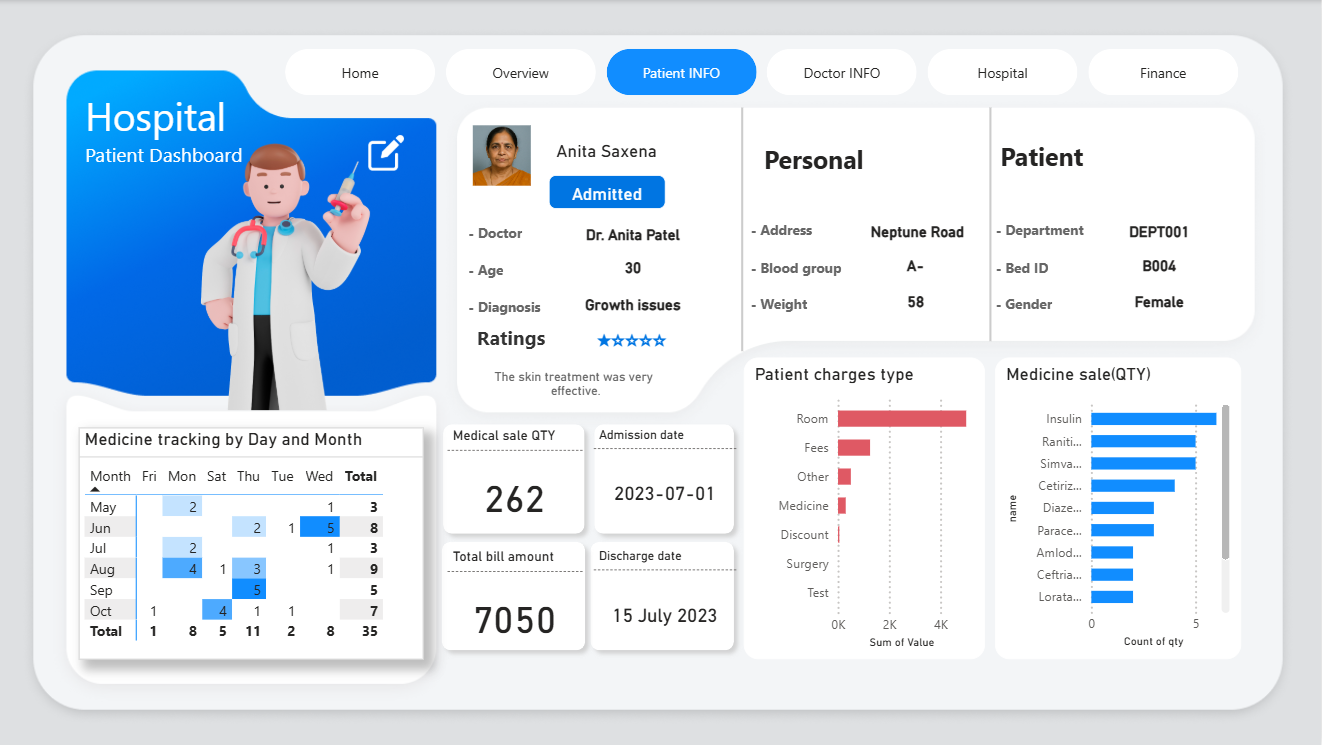

Layout of this report page (visuals, bound fields, positions):
{"tool":"powerbi","page":{"name":"Patient INFO","canvas":[1280,720],"ordinal":2},"visuals":[{"type":"image","box":[134.1,120.7,280.4,280.4],"z":0},{"type":"shape","box":[455.7,211.4,114.3,25.7],"z":0,"group":"g1"},{"type":"image","box":[354.3,125.7,45.7,44.3],"z":1000},{"type":"shape","box":[455.6,247.4,114.4,25.6],"z":1000,"group":"g1"},{"type":"textbox","box":[81.7,81.7,192.6,109.7],"z":2000},{"type":"shape","box":[455.7,282.8,114.3,25.7],"z":2000,"group":"g1"},{"type":"card","title":"Admission date","fields":{"Values":["Min(patient_info.doctor_name)"]},"box":[543.1,211.2,143.8,32.5],"z":3000,"group":"g1"},{"type":"shape","box":[566.4,513.6,156.4,122.7],"z":3000},{"type":"shape","box":[729.3,208.5,114.3,25.7],"z":4000},{"type":"card","title":"Admission date","fields":{"Values":["Min(patient_info.patient_age)"]},"box":[543.1,243.7,143.8,32.5],"z":4000,"group":"g1"},{"type":"shape","box":[965.1,208.5,114.3,25.7],"z":5000},{"type":"card","title":"Admission date","fields":{"Values":["Min(appointment.diagnosis)"]},"box":[543.1,279.3,143.8,32.5],"z":5000,"group":"g1"},{"type":"shape","box":[421.8,513.6,156.4,122.7],"z":6000},{"type":"shape","box":[729.2,244.6,114.4,25.6],"z":7000},{"type":"shape","box":[965,244.6,114.4,25.6],"z":8000},{"type":"shape","box":[423.6,400.9,154.5,123.6],"z":9000},{"type":"shape","box":[729.3,279.9,114.3,25.7],"z":10000},{"type":"shape","box":[965.1,279.9,114.3,25.7],"z":11000},{"type":"shape","box":[570,400.9,152.7,123.6],"z":12000},{"type":"card","title":"Admission date","fields":{"Values":["Min(patient_info.patient_address)"]},"box":[816.7,208.3,143.8,32.5],"z":13000},{"type":"card","title":"Admission date","fields":{"Values":["Min(patient_info.department_department_id)"]},"box":[1052.5,208.3,143.8,32.5],"z":14000},{"type":"card","title":"Admission date","fields":{"Values":["Min(patient_info.patient_blood_group)"]},"box":[816.7,240.8,143.8,32.5],"z":15000},{"type":"card","title":"Admission date","fields":{"Values":["Min(patient_info.beds_bed_id)"]},"box":[1052.5,240.8,143.8,32.5],"z":16000},{"type":"card","title":"Discharge date","fields":{"Values":["Min(patient_info.patient_discharge_date)"]},"box":[578.2,530,137.3,106.4],"z":17000},{"type":"card","title":"Admission date","fields":{"Values":["Min(patient_info.patient_weight)"]},"box":[816.7,276.5,143.8,32.5],"z":18000},{"type":"card","title":"Admission date","fields":{"Values":["Min(patient_info.patient_gender)"]},"box":[1052.5,276.5,143.8,32.5],"z":19000},{"type":"shape","box":[711.1,103.3,21.1,235.6],"z":20000},{"type":"card","title":"Admission date","fields":{"Values":["Min(patient_info.patient_admission_date)"]},"box":[578.2,412.7,137.3,106.4],"z":21000},{"type":"pivotTable","title":"Medicine tracking by Day and Month","fields":{"Values":["CountNonNull(medicine_patient.qty)"],"Columns":["Calendar.Day"],"Rows":["Calendar.Month"]},"box":[81.2,412.5,332.5,223.8],"z":22000},{"type":"clusteredBarChart","title":"Medicine sale(QTY)","fields":{"Y":["CountNonNull(medicine_patient.qty)"],"Category":["medical_stock_info.name"]},"box":[965,345,237.5,291.2],"z":23000},{"type":"clusteredBarChart","title":"Patient charges type","fields":{"Category":["Bills.Charge_Type"],"Y":["Sum(Bills.Value)"]},"box":[722.5,345,232.5,291.2],"z":24000},{"type":"card","title":"Total bill amount","fields":{"Values":["_Measures.Total_bill_amount"]},"box":[436.4,530,130,106.4],"z":25000},{"type":"card","title":"Medical sale QTY","fields":{"Values":["_Measures.Total_med_sale_qty"]},"box":[436.4,412.7,130,106.4],"z":26000},{"type":"cardVisual","fields":{"Data":["Min(patient_info.patient_Img)"]},"box":[440,81.4,102.9,142.9],"z":27000},{"type":"card","title":"Admission date","fields":{"Values":["Min(patient_info.patient_name)"]},"box":[519.3,130,143.6,32.9],"z":28000},{"type":"card","title":"Admission date","fields":{"Values":["Min(patient_info.patient_status)"]},"box":[535,168.6,112.9,32.9],"z":29000},{"type":"card","title":"Admission date","fields":{"Values":["_Measures.Count of satisfaction_rating star rating"]},"box":[543.1,313.1,143.8,33.1],"z":30000},{"type":"shape","box":[464.3,312.9,114.3,25.7],"z":31000},{"type":"card","title":"Admission date","fields":{"Values":["Min(patient_info.satisfaction_feedback)"]},"box":[455.7,344.3,208.6,55.7],"z":32000},{"type":"shape","box":[930,103.3,61.1,225.6],"z":33000},{"type":"group","id":"g1","title":"Group 1","box":[455.6,211.2,231.2,100.6],"z":34000},{"type":"textbox","box":[736.7,132.2,152.2,63.3],"z":35000},{"type":"textbox","box":[965.6,130,152.2,63.3],"z":36000},{"type":"pageNavigator","box":[280,47.1,922.9,45.7],"z":38000},{"type":"actionButton","box":[275.1,49.5,138.7,39.8],"z":39000},{"type":"actionButton","box":[430.7,49.5,138.7,39.8],"z":40000},{"type":"actionButton","box":[740.8,49.5,138.7,39.8],"z":41000},{"type":"actionButton","box":[901.2,49.5,138.7,39.8],"z":42000},{"type":"actionButton","box":[1050.8,51.9,138.7,39.8],"z":43000}]}

Visuals, with their boxes in screenshot pixels (x1, y1, x2, y2), scaled from the page's 1280x720 canvas onto the 1322x745 screenshot:
image: select_region(139, 125, 428, 415)
shape: select_region(471, 219, 589, 245)
image: select_region(366, 130, 413, 176)
shape: select_region(471, 256, 589, 282)
textbox: select_region(84, 85, 283, 198)
shape: select_region(471, 293, 589, 319)
"Admission date" card: select_region(561, 219, 709, 252)
shape: select_region(585, 531, 747, 658)
shape: select_region(753, 216, 871, 242)
"Admission date" card: select_region(561, 252, 709, 286)
shape: select_region(997, 216, 1115, 242)
"Admission date" card: select_region(561, 289, 709, 323)
shape: select_region(436, 531, 597, 658)
shape: select_region(753, 253, 871, 280)
shape: select_region(997, 253, 1115, 280)
shape: select_region(437, 415, 597, 543)
shape: select_region(753, 290, 871, 316)
shape: select_region(997, 290, 1115, 316)
shape: select_region(589, 415, 746, 543)
"Admission date" card: select_region(843, 216, 992, 249)
"Admission date" card: select_region(1087, 216, 1236, 249)
"Admission date" card: select_region(843, 249, 992, 283)
"Admission date" card: select_region(1087, 249, 1236, 283)
"Discharge date" card: select_region(597, 548, 739, 658)
"Admission date" card: select_region(843, 286, 992, 320)
"Admission date" card: select_region(1087, 286, 1236, 320)
shape: select_region(734, 107, 756, 351)
"Admission date" card: select_region(597, 427, 739, 537)
"Medicine tracking by Day and Month" pivotTable: select_region(84, 427, 427, 658)
"Medicine sale(QTY)" clusteredBarChart: select_region(997, 357, 1242, 658)
"Patient charges type" clusteredBarChart: select_region(746, 357, 986, 658)
"Total bill amount" card: select_region(451, 548, 585, 658)
"Medical sale QTY" card: select_region(451, 427, 585, 537)
cardVisual - Min(patient_info.patient_Img): select_region(454, 84, 561, 232)
"Admission date" card: select_region(536, 135, 685, 169)
"Admission date" card: select_region(553, 174, 669, 208)
"Admission date" card: select_region(561, 324, 709, 358)
shape: select_region(480, 324, 598, 350)
"Admission date" card: select_region(471, 356, 686, 414)
shape: select_region(961, 107, 1024, 340)
"Group 1" group: select_region(471, 219, 709, 323)
textbox: select_region(761, 137, 918, 202)
textbox: select_region(997, 135, 1154, 200)
pageNavigator: select_region(289, 49, 1242, 96)
actionButton: select_region(284, 51, 427, 92)
actionButton: select_region(445, 51, 588, 92)
actionButton: select_region(765, 51, 908, 92)
actionButton: select_region(931, 51, 1074, 92)
actionButton: select_region(1085, 54, 1229, 95)
